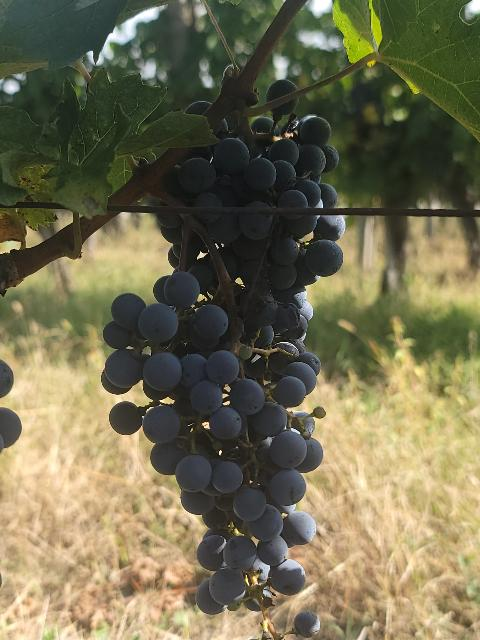grapes: (101, 272, 322, 640), (165, 119, 345, 339)
